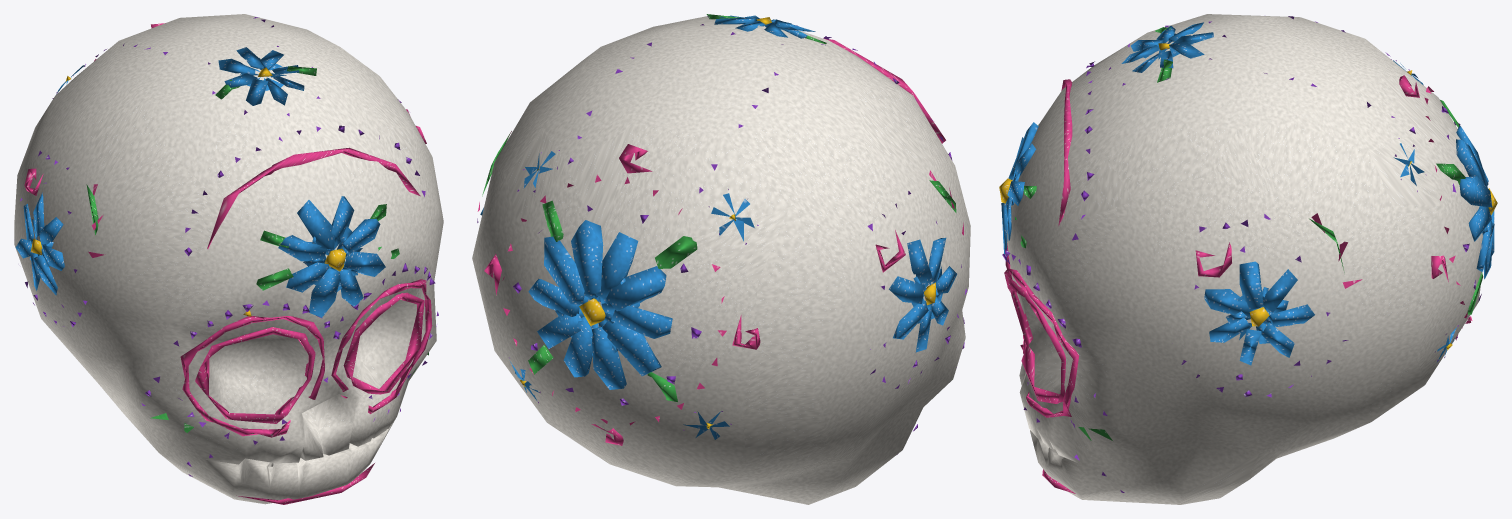
File: calaverita_lod.obj
3 renders of one model, left to right at view 1: azimuth 30°, elevation 25°; view 2: azimuth 150°, elevation 25°; view 3: azimuth 270°, elevation 25°, orthographic. The views are drawn at different scales.
Parts seen in each view (by area): view 1: Calaverita, Deco_Betun_Lineas, Deco_Flores, Deco_Puntos, Deco_Hojas, Deco_Centros; view 2: Calaverita, Deco_Flores, Deco_Betun_Lineas, Deco_Hojas, Deco_Puntos, Deco_Centros; view 3: Calaverita, Deco_Flores, Deco_Betun_Lineas, Deco_Puntos, Deco_Hojas, Deco_Centros.
Part boxes in pixels (box(x1,y1,x2,y2)): Calaverita: box(14, 14, 443, 504); Deco_Betun_Lineas: box(24, 23, 432, 504); Deco_Flores: box(15, 47, 385, 317); Deco_Puntos: box(20, 17, 438, 476); Deco_Hojas: box(86, 66, 428, 432); Deco_Centros: box(31, 67, 346, 316); Calaverita: box(472, 16, 970, 504); Deco_Flores: box(480, 15, 957, 439); Deco_Betun_Lineas: box(477, 38, 963, 445); Deco_Hojas: box(482, 14, 956, 401); Deco_Puntos: box(477, 16, 966, 454); Deco_Centros: box(520, 17, 935, 428); Calaverita: box(1007, 14, 1483, 504); Deco_Flores: box(1001, 22, 1494, 365); Deco_Betun_Lineas: box(1004, 75, 1472, 493); Deco_Puntos: box(1002, 16, 1481, 492); Deco_Hojas: box(1015, 27, 1483, 440); Deco_Centros: box(999, 43, 1497, 350).
Bounding box in the file's own units: 2.02 × 2.02 × 2.1.
6 materials, 6 textured.
